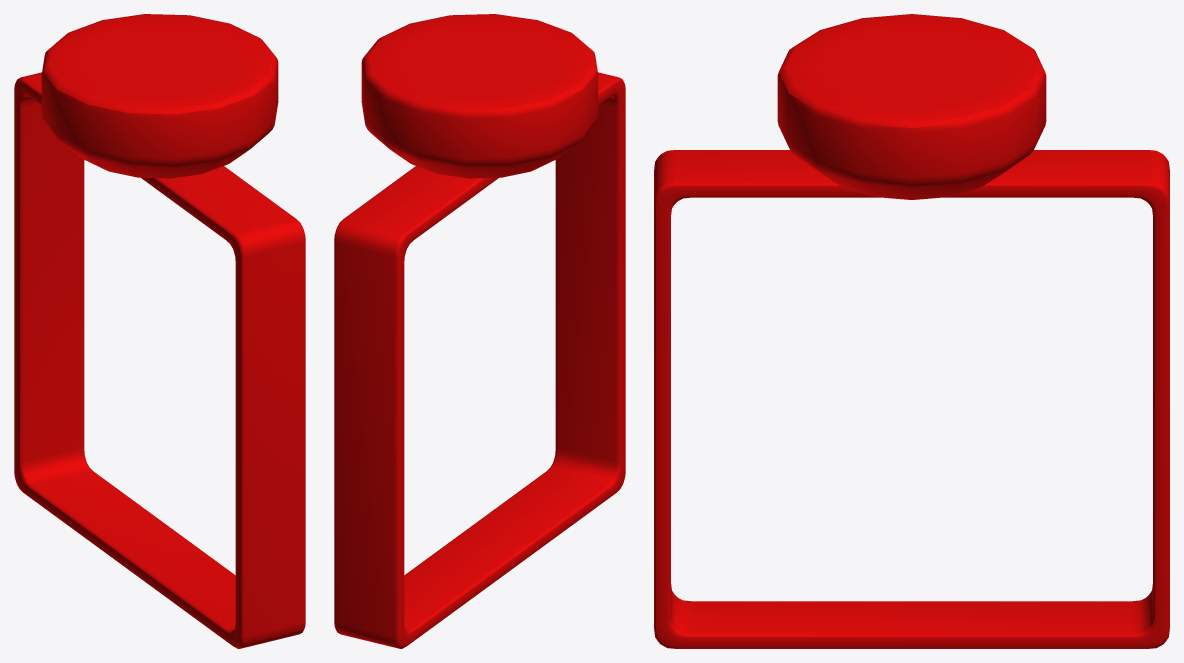
File: projo statique pied.fbx
The picture shows the model from 3 angles, left to right: view 1: azimuth 30°, elevation 25°; view 2: azimuth 150°, elevation 25°; view 3: azimuth 270°, elevation 25°; orthographic projection. The views are drawn at different scales.
Visible parts, largest first — view 1: Cylinder.003; view 2: Cylinder.003; view 3: Cylinder.003.
Part boxes in pixels (x1=…): Cylinder.003: x1=14, y1=14, x2=305, y2=648; Cylinder.003: x1=334, y1=14, x2=625, y2=648; Cylinder.003: x1=654, y1=14, x2=1169, y2=648.
Size of the model in its own units: 18.24 by 42.28 by 35.
